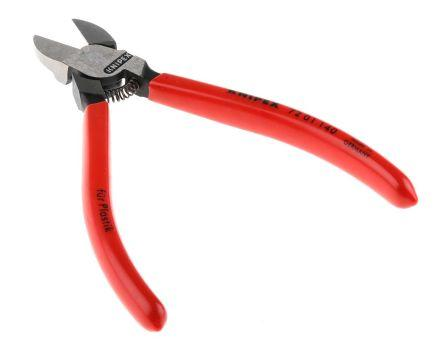Pliers: (23, 13, 424, 335)
